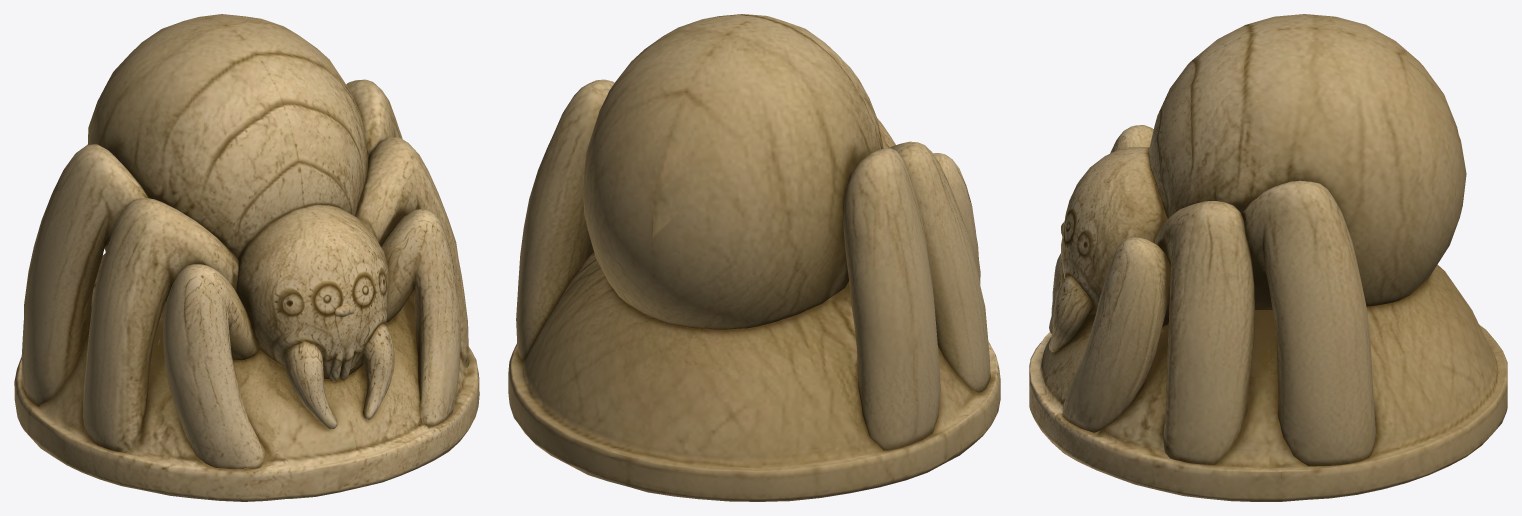
File: shelob.glb
The picture shows the model from 3 angles, left to right: view 1: azimuth 30°, elevation 25°; view 2: azimuth 150°, elevation 25°; view 3: azimuth 270°, elevation 25°; orthographic projection. The views are drawn at different scales.
Visible parts, largest first — view 1: mesh_node; view 2: mesh_node; view 3: mesh_node.
Boxes of the visible parts, left/top/right/bottom form: mesh_node: left=14, top=14, right=479, bottom=501; mesh_node: left=508, top=14, right=1000, bottom=501; mesh_node: left=1029, top=14, right=1507, bottom=501.
Size of the model in its own units: 1 by 0.8672 by 1.
Materials: 1 (1 with a texture image).
